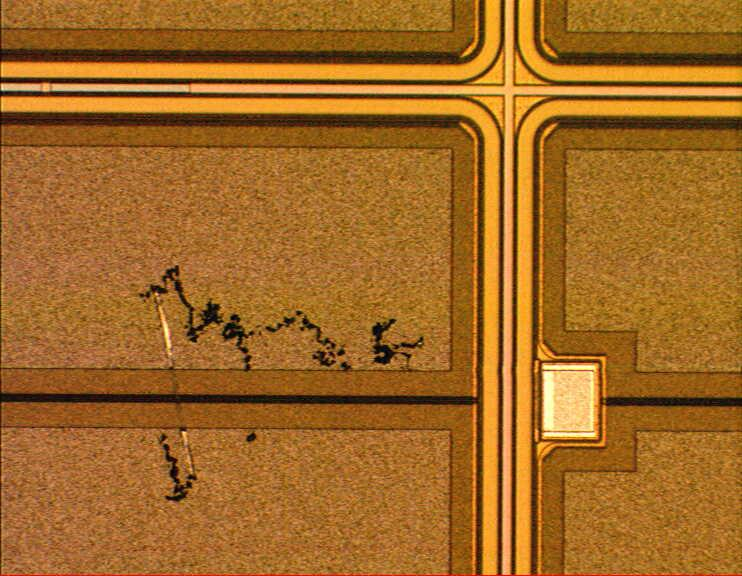SCRATCH: (134, 258, 443, 508)
